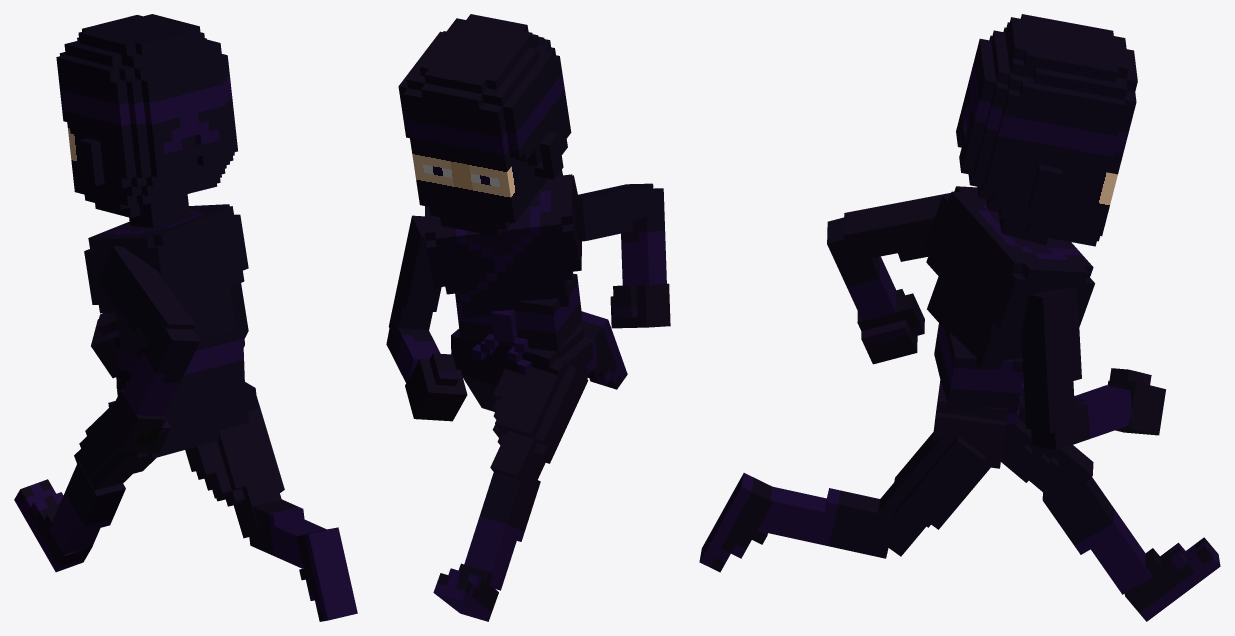
The model's file is Ninja_Run.dae.
3 renders of one model, left to right at view 1: azimuth 30°, elevation 25°; view 2: azimuth 150°, elevation 25°; view 3: azimuth 270°, elevation 25°, orthographic. The views are drawn at different scales.
Visible parts, largest first — view 1: Head-local, Chest-local, Right_Thigh-local, Left_Arm-local, Hip-local, Left_Forearm-local, Belly-local, Right_Foot-local, Left_Leg-local, Left_Thigh-local, Right_Leg-local, Left_Foot-local (+3 smaller); view 2: Head-local, Chest-local, Left_Thigh-local, Belly-local, Left_Leg-local, Hip-local, Right_Arm-local, Left_Forearm-local, Left_Arm-local, Right_Hand-local, Left_Hand-local, Left_Foot-local (+3 smaller); view 3: Head-local, Chest-local, Right_Arm-local, Right_Thigh-local, Right_Leg-local, Left_Leg-local, Left_Arm-local, Belly-local, Left_Thigh-local, Left_Foot-local, Right_Foot-local, Right_Forearm-local (+4 smaller).
Part boxes in pixels (box(x1,y1,x2,y2)): Head-local: box(56, 14, 237, 227); Chest-local: box(84, 204, 248, 353); Right_Thigh-local: box(185, 396, 284, 538); Left_Arm-local: box(98, 246, 195, 339); Hip-local: box(108, 378, 257, 458); Left_Forearm-local: box(123, 319, 200, 416); Belly-local: box(115, 324, 244, 399); Right_Foot-local: box(296, 527, 357, 621); Left_Leg-local: box(50, 461, 125, 554); Left_Thigh-local: box(74, 403, 155, 490); Right_Leg-local: box(249, 499, 326, 568); Left_Foot-local: box(14, 479, 92, 572); Head-local: box(398, 14, 571, 236); Chest-local: box(424, 170, 581, 317); Left_Thigh-local: box(490, 357, 588, 479); Belly-local: box(455, 273, 582, 353); Left_Leg-local: box(464, 472, 540, 590); Hip-local: box(451, 327, 592, 385); Right_Arm-local: box(388, 215, 441, 329); Left_Forearm-local: box(621, 188, 666, 285); Left_Arm-local: box(573, 183, 653, 241); Right_Hand-local: box(405, 353, 467, 421); Left_Hand-local: box(610, 283, 670, 328); Left_Foot-local: box(433, 563, 498, 621); Head-local: box(956, 14, 1137, 246); Chest-local: box(924, 186, 1094, 369); Right_Arm-local: box(1021, 287, 1081, 433); Right_Thigh-local: box(878, 432, 990, 556); Right_Leg-local: box(760, 487, 895, 558); Left_Leg-local: box(1042, 477, 1151, 594); Left_Arm-local: box(843, 193, 950, 261); Belly-local: box(934, 323, 1024, 413); Left_Thigh-local: box(1001, 398, 1093, 507); Left_Foot-local: box(1124, 537, 1220, 621); Right_Foot-local: box(699, 473, 772, 572); Right_Forearm-local: box(1031, 385, 1132, 450).
Bounding box in the file's own units: 21.95 × 56.84 × 44.42.
16 materials, 16 textured.
